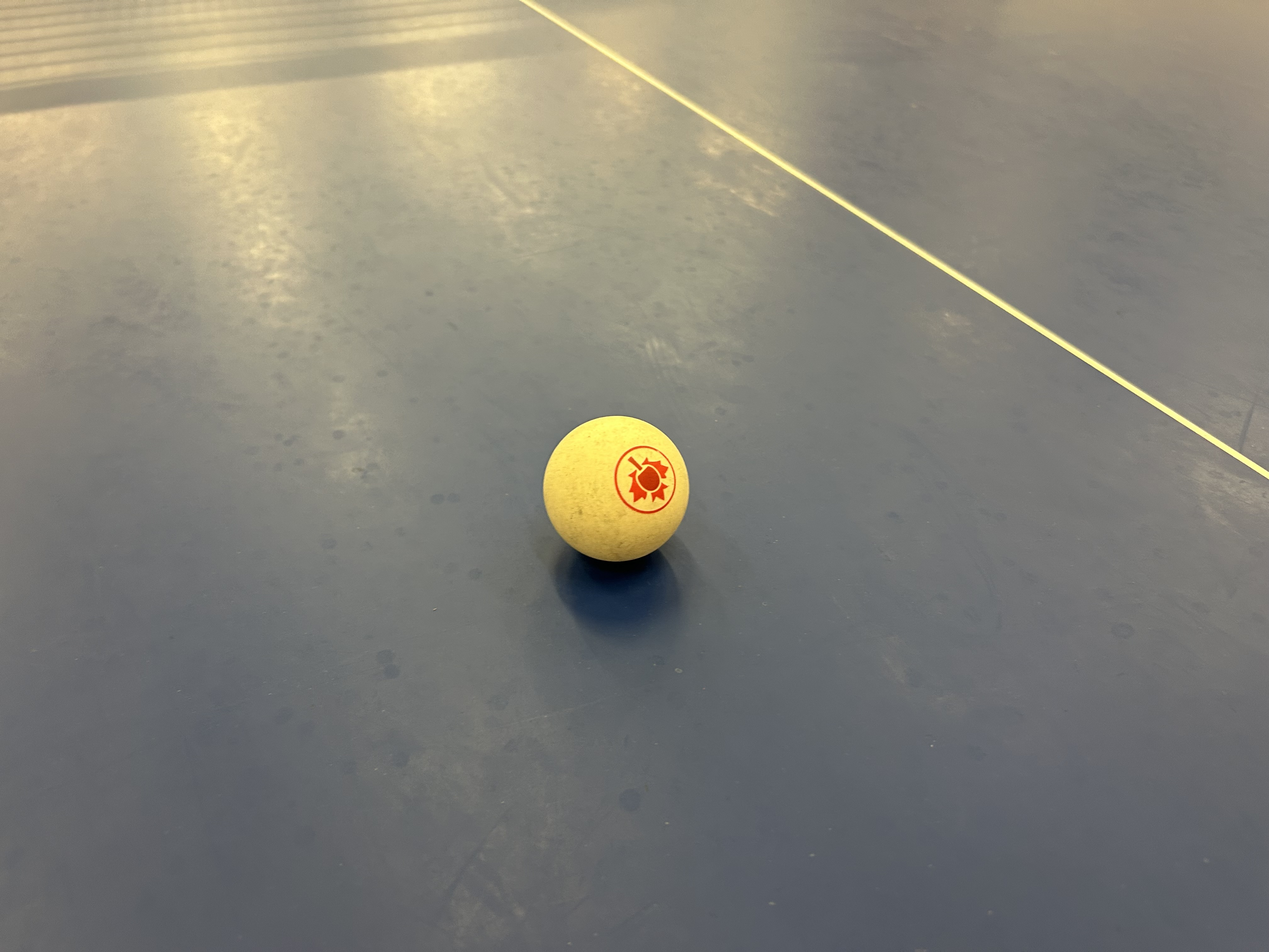Ball: (539, 397, 698, 564)
